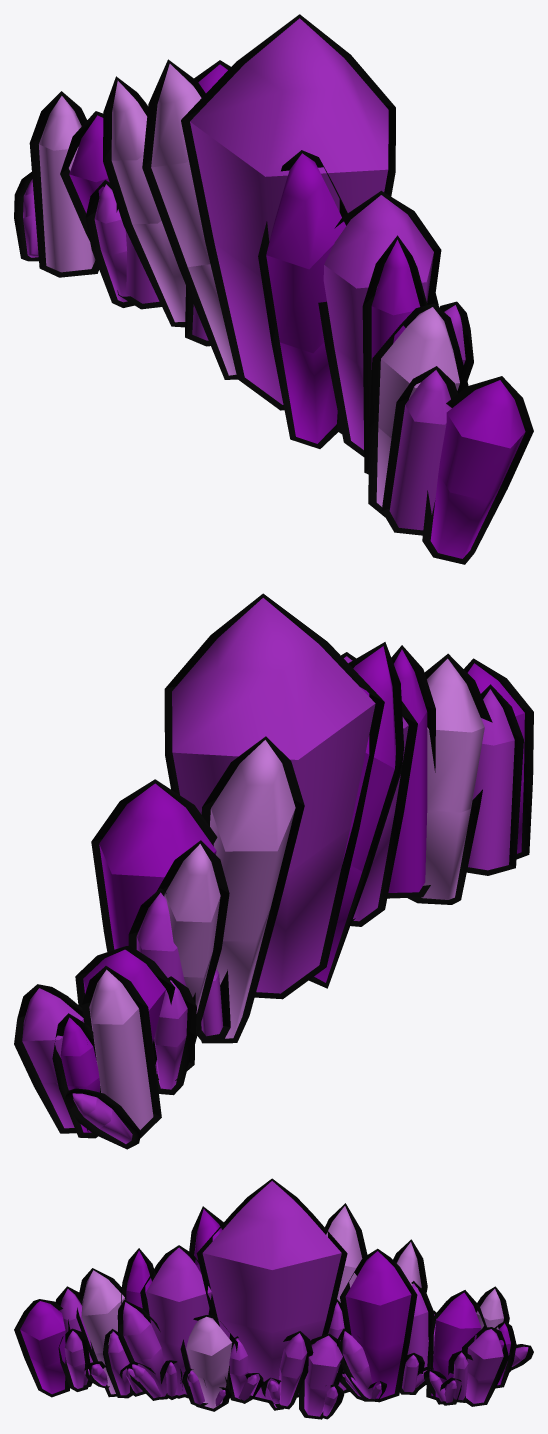
The model's file is indestructible_wall.FBX.
3 renders of one model, top to bottom at view 1: azimuth 30°, elevation 25°; view 2: azimuth 150°, elevation 25°; view 3: azimuth 270°, elevation 25°, orthographic. The views are drawn at different scales.
Visible parts, largest first — view 1: Cylinder004, Cylinder005; view 2: Cylinder004, Cylinder005; view 3: Cylinder004, Cylinder005.
Boxes of the visible parts, left/top/right/bottom form: Cylinder004: left=23, top=18, right=525, bottom=558; Cylinder005: left=14, top=14, right=533, bottom=564; Cylinder004: left=22, top=598, right=524, bottom=1143; Cylinder005: left=14, top=593, right=533, bottom=1149; Cylinder004: left=20, top=1181, right=528, bottom=1416; Cylinder005: left=14, top=1178, right=533, bottom=1419.
Size of the model in its own units: 0.4867 by 1.01 by 2.08.
